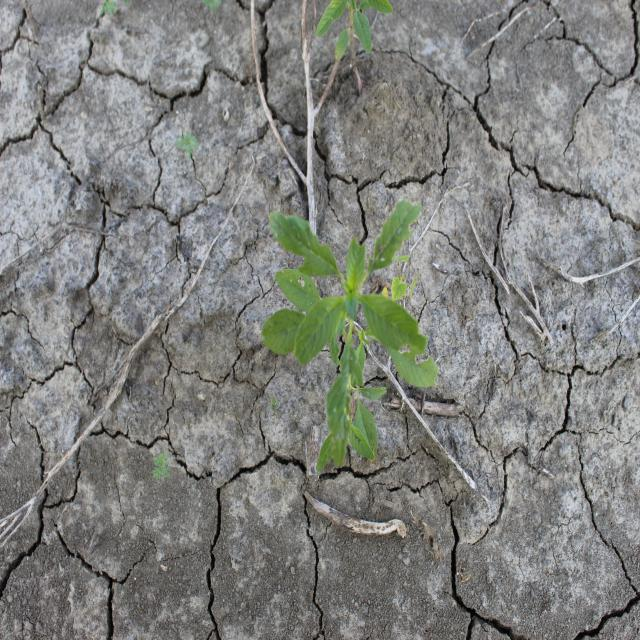Ragweed: (151, 450, 172, 481)
Waterhemp: (260, 196, 440, 473), (315, 0, 395, 64)
